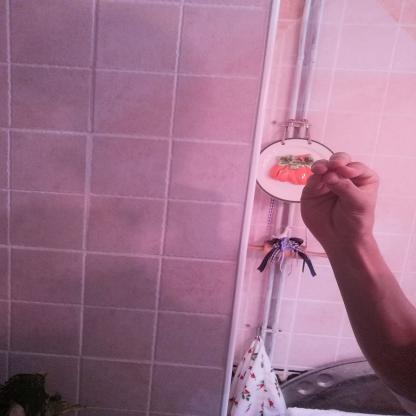HA: (286, 139, 396, 256)
